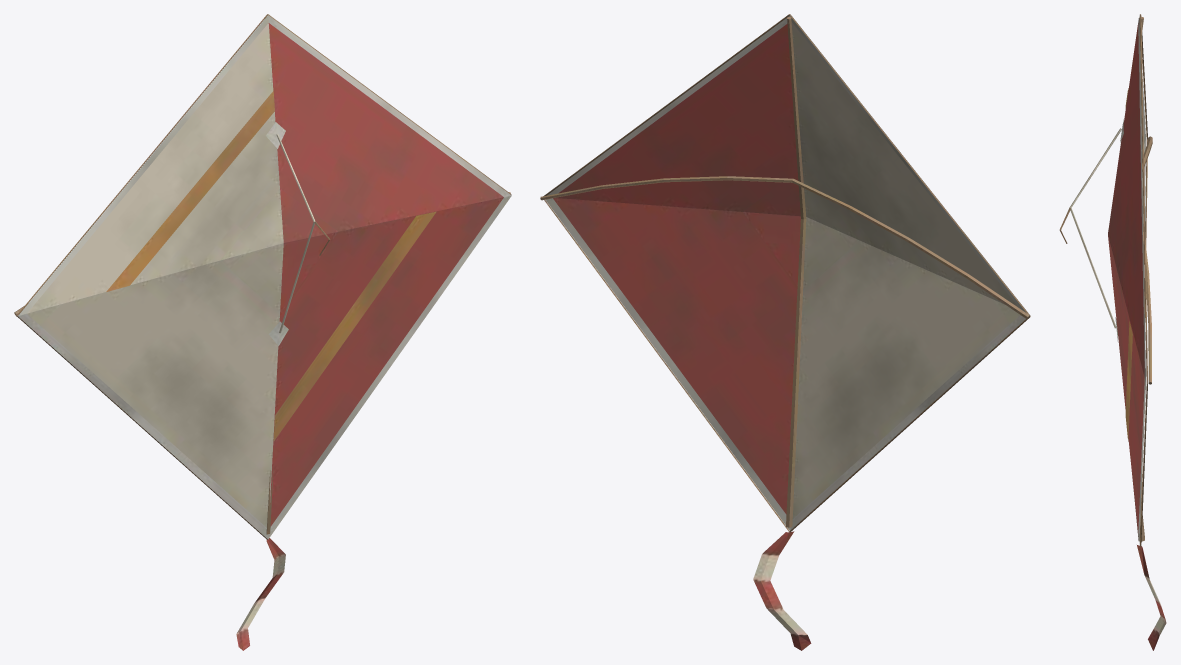
Rendered from SP10_kites_v1.glb.
The picture shows the model from 3 angles, left to right: view 1: azimuth 30°, elevation 25°; view 2: azimuth 150°, elevation 25°; view 3: azimuth 270°, elevation 25°; orthographic projection. The views are drawn at different scales.
Parts seen in each view (by area): view 1: Striped Paper Kite; view 2: Striped Paper Kite; view 3: Striped Paper Kite.
Part boxes in pixels (x1=…): Striped Paper Kite: x1=14, y1=14, x2=511, y2=650; Striped Paper Kite: x1=540, y1=14, x2=1030, y2=650; Striped Paper Kite: x1=1059, y1=14, x2=1166, y2=650.
Bounding box in the file's own units: 0.6515 × 0.8 × 0.1203.
Materials: 6 (6 with a texture image).
